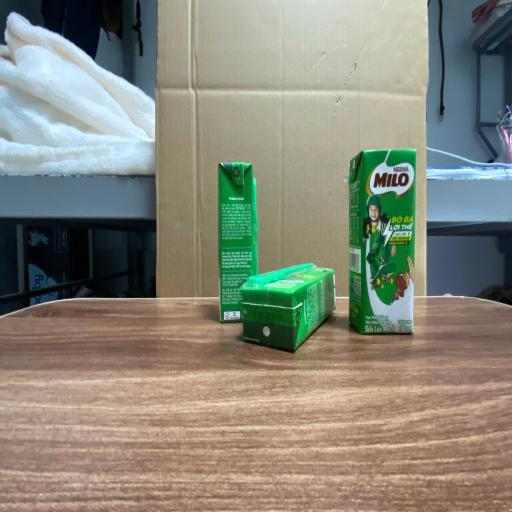milo: (348, 149, 417, 335), (240, 259, 336, 353), (216, 163, 256, 323)
